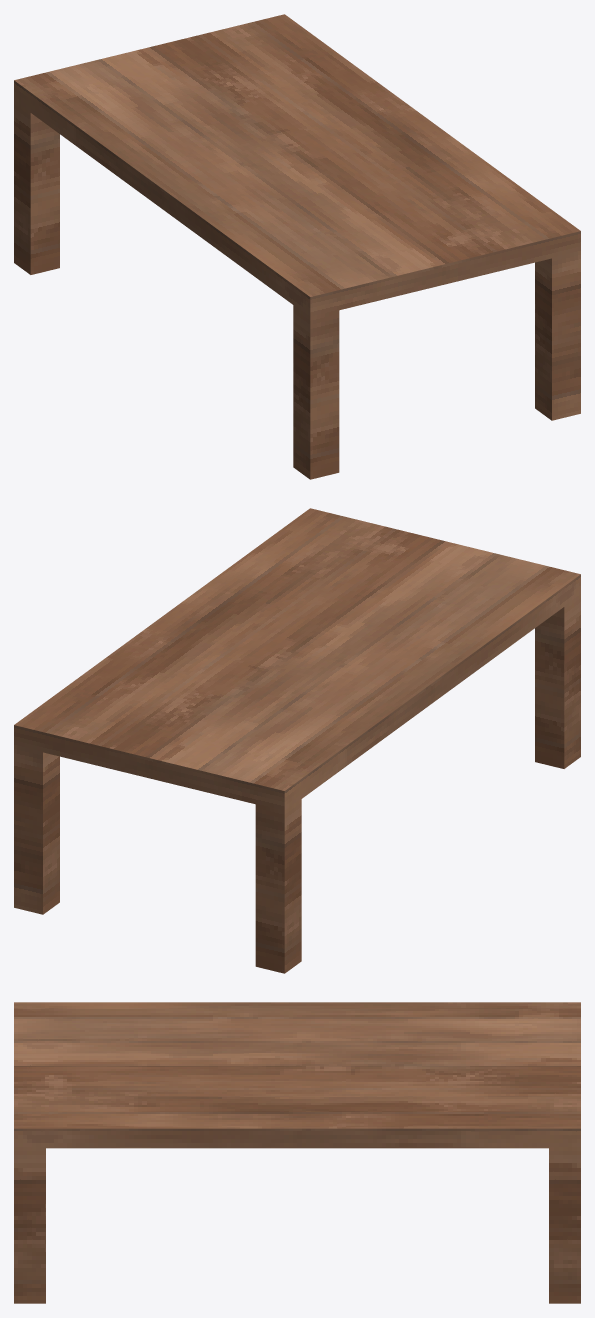
The model's file is desk.glb.
3 renders of one model, top to bottom at view 1: azimuth 30°, elevation 25°; view 2: azimuth 150°, elevation 25°; view 3: azimuth 270°, elevation 25°, orthographic. The views are drawn at different scales.
Visible parts, largest first — view 1: Table; view 2: Table; view 3: Table.
Part boxes in pixels (x1,y1,x2,y2): Table: [14, 14, 580, 479]; Table: [14, 508, 580, 973]; Table: [14, 1002, 580, 1303].
Size of the model in its own units: 0.6981 by 0.45 by 1.32.
1 material, 1 textured.
